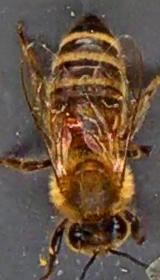varroa_mite: (56, 112, 88, 134)
